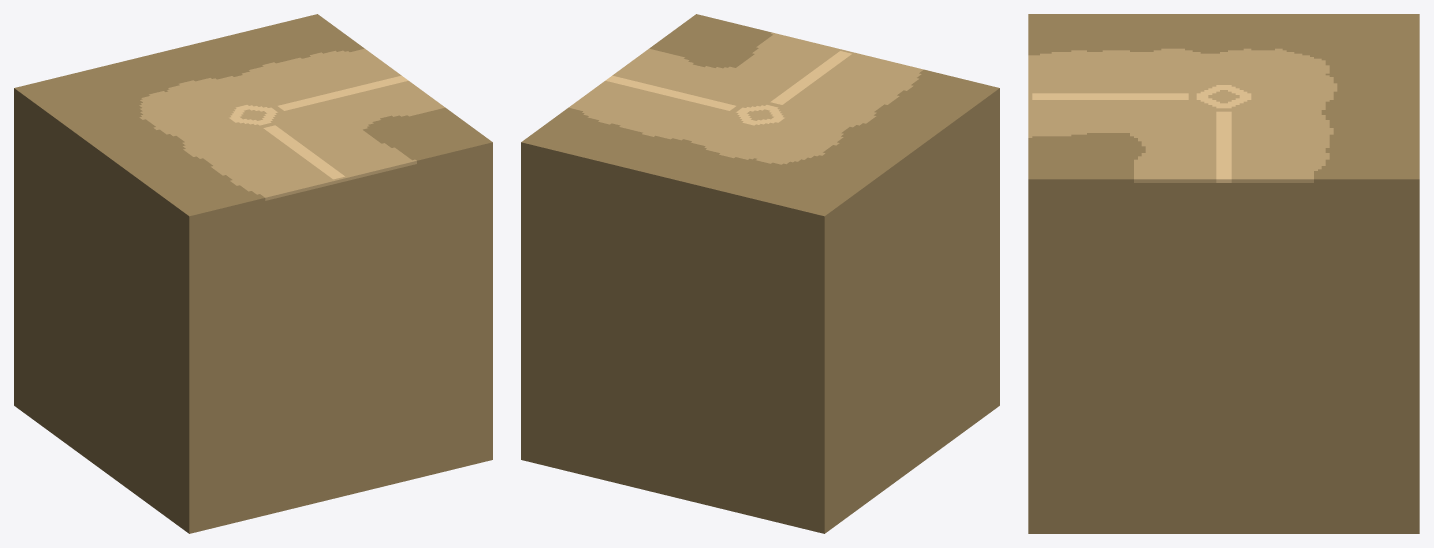
Rendered from floor2b.obj.
The picture shows the model from 3 angles, left to right: view 1: azimuth 30°, elevation 25°; view 2: azimuth 150°, elevation 25°; view 3: azimuth 270°, elevation 25°; orthographic projection. The views are drawn at different scales.
Parts seen in each view (by area): view 1: floor2b; view 2: floor2b; view 3: floor2b.
Boxes of the visible parts, bbox=[...] form: floor2b: bbox=[14, 14, 492, 533]; floor2b: bbox=[521, 14, 999, 533]; floor2b: bbox=[1028, 14, 1419, 533].
Size of the model in its own units: 100 by 100 by 100.
Materials: 1 (1 with a texture image).
